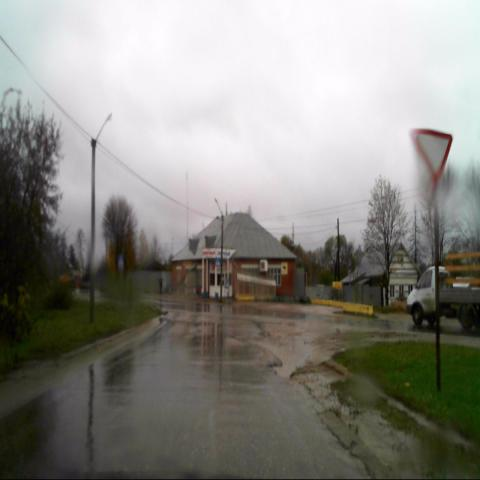2_4: (410, 129, 452, 193)
